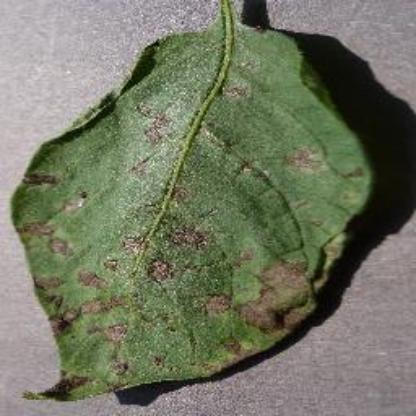Early-Blight: (13, 15, 385, 400)
